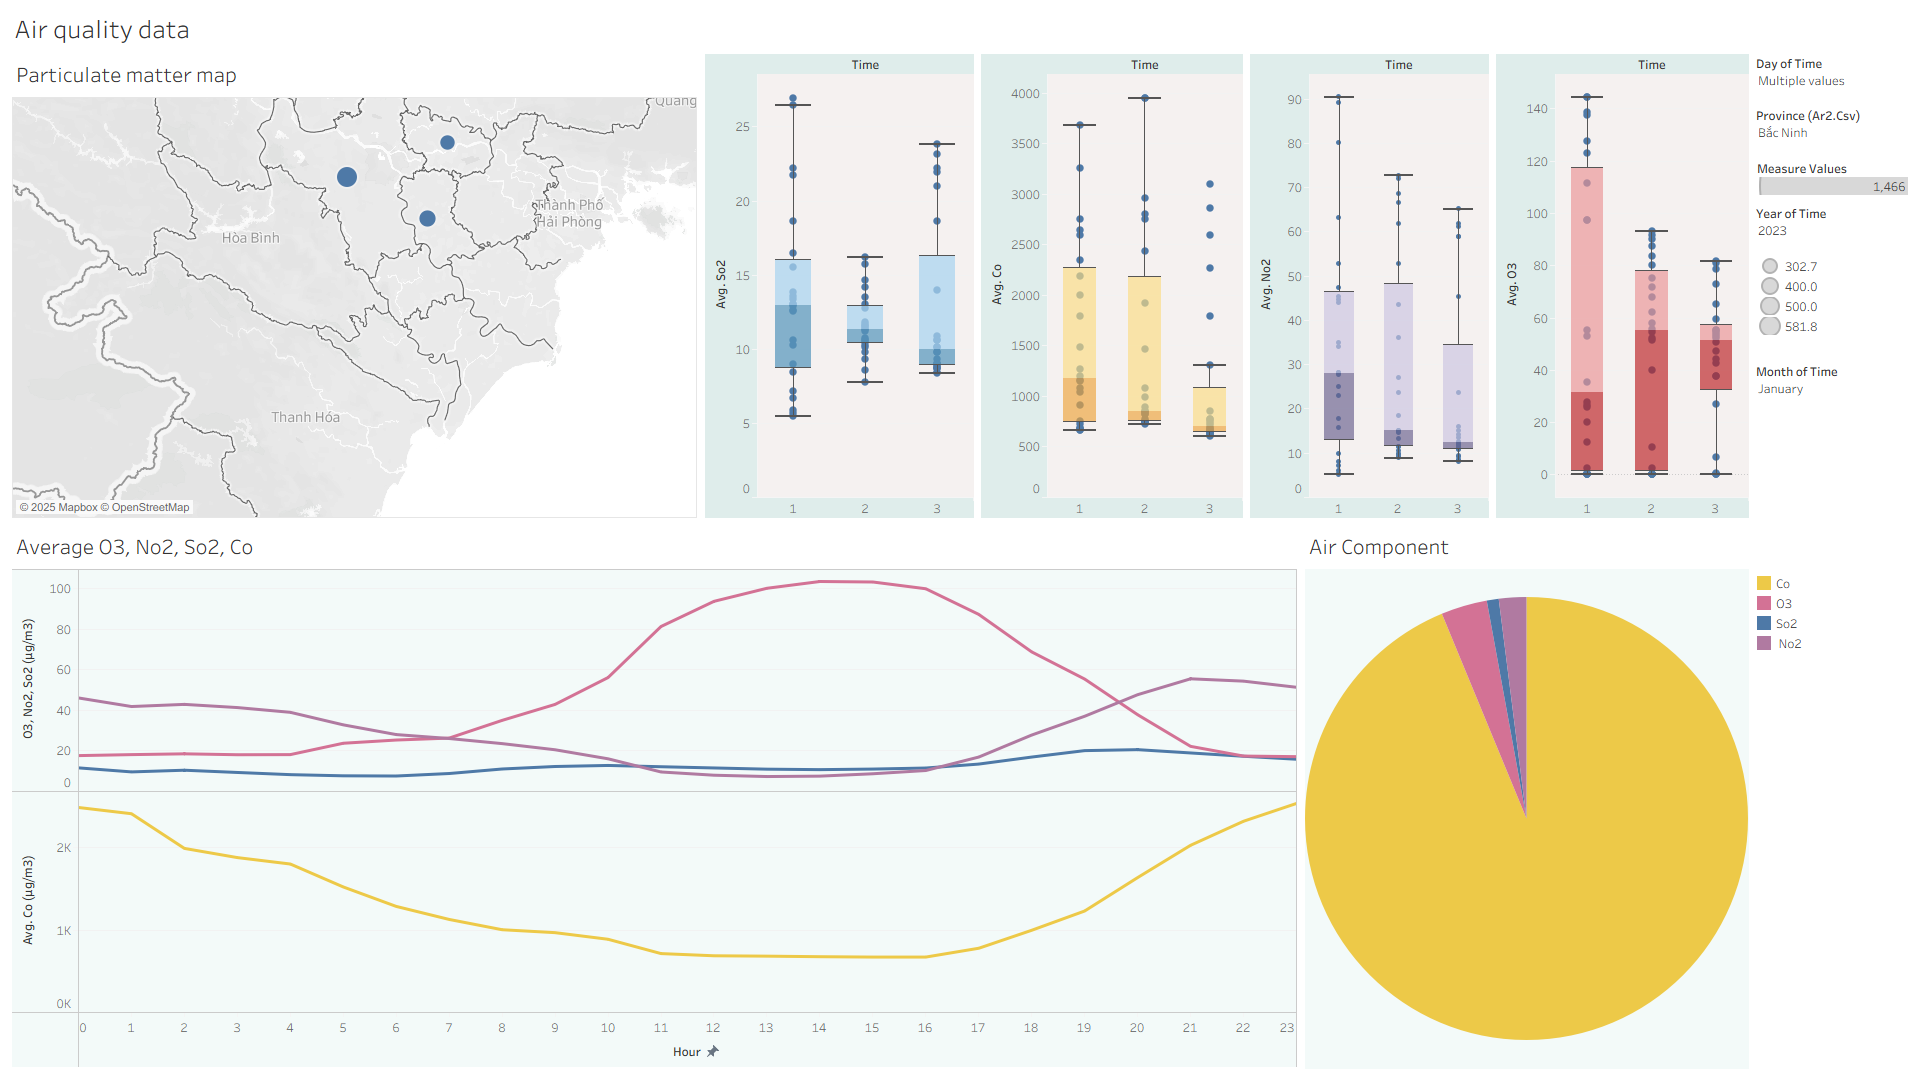

The page's visual inventory and layout, read from the dashboard file:
{"tool":"tableau","page":{"name":"Dashboard 3","canvas":[1920,1080],"ordinal":1},"visuals":[{"type":"title","box":[8,8,1904,42]},{"type":"worksheet","title":"pm map","mark":"Circle","box":[8,50,693,472]},{"type":"worksheet","title":"pm (8)","mark":"Circle","rows":["so2"],"cols":["time"],"box":[701,50,276,472]},{"type":"worksheet","title":"pm (5)","mark":"Circle","rows":["co"],"cols":["time"],"box":[977,50,269,472]},{"type":"worksheet","title":"pm (6)","mark":"Circle","rows":["no2"],"cols":["time"],"box":[1246,50,246,472]},{"type":"worksheet","title":"pm (7)","mark":"Circle","rows":["o3"],"cols":["time"],"box":[1492,50,260,472]},{"type":"filter","title":"pm map","param":"[federated.0rbkqbr0rq2c2w1b4mog512l6kth].[dy:time:ok]","box":[1752,50,160,52]},{"type":"filter","title":"pm pie","param":"[federated.0rbkqbr0rq2c2w1b4mog512l6kth].[none:province (ar2.csv):nk]","box":[1752,102,160,52]},{"type":"legend","title":"pm pie","param":"[federated.0rbkqbr0rq2c2w1b4mog512l6kth].[Multiple Values]","box":[1752,154,160,46]},{"type":"filter","title":"pm (5)","param":"[federated.0rbkqbr0rq2c2w1b4mog512l6kth].[yr:time:ok]","box":[1752,200,160,52]},{"type":"legend","title":"pm map","param":"[federated.0rbkqbr0rq2c2w1b4mog512l6kth].[avg:Calculation_936185784171503616:qk]","box":[1752,252,160,88]},{"type":"filter","title":"pm (7)","param":"[federated.0rbkqbr0rq2c2w1b4mog512l6kth].[mn:time:ok]","box":[1752,340,160,52]},{"type":"worksheet","title":"time series 2","mark":"Automatic","rows":["co"],"cols":["time"],"box":[8,522,1293,550]},{"type":"worksheet","title":"pm pie","mark":"Pie","box":[1301,522,451,550]},{"type":"legend","title":"pm pie","param":"[federated.0rbkqbr0rq2c2w1b4mog512l6kth].[:Measure Names]","box":[1754,573,89,82]}]}

Visuals, with their boxes in screenshot pixels (x1, y1, x2, y2), scaled from the page's 1920x1080 canvas onto the 1920x1080 screenshot:
title: Rect(8, 8, 1912, 50)
"pm map" worksheet (Circle marks): Rect(8, 50, 701, 522)
"pm (8)" worksheet (Circle marks): Rect(701, 50, 977, 522)
"pm (5)" worksheet (Circle marks): Rect(977, 50, 1246, 522)
"pm (6)" worksheet (Circle marks): Rect(1246, 50, 1492, 522)
"pm (7)" worksheet (Circle marks): Rect(1492, 50, 1752, 522)
"pm map" filter: Rect(1752, 50, 1912, 102)
"pm pie" filter: Rect(1752, 102, 1912, 154)
"pm pie" legend: Rect(1752, 154, 1912, 200)
"pm (5)" filter: Rect(1752, 200, 1912, 252)
"pm map" legend: Rect(1752, 252, 1912, 340)
"pm (7)" filter: Rect(1752, 340, 1912, 392)
"time series 2" worksheet: Rect(8, 522, 1301, 1072)
"pm pie" worksheet (Pie marks): Rect(1301, 522, 1752, 1072)
"pm pie" legend: Rect(1754, 573, 1843, 655)
